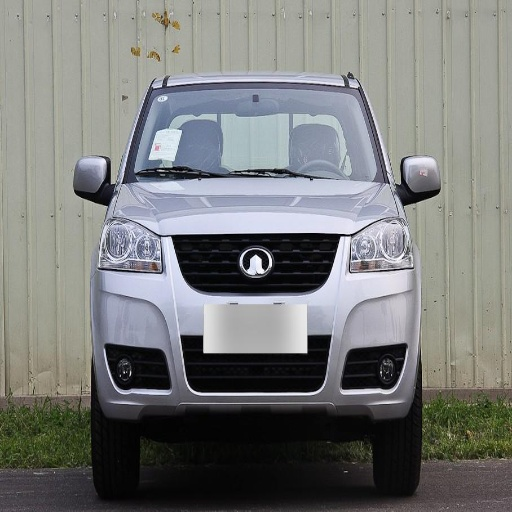front_bumper: (95, 235, 418, 417)
front_right_light: (100, 217, 163, 273)
hood: (117, 177, 395, 235)
left_mirror: (398, 156, 442, 204)
